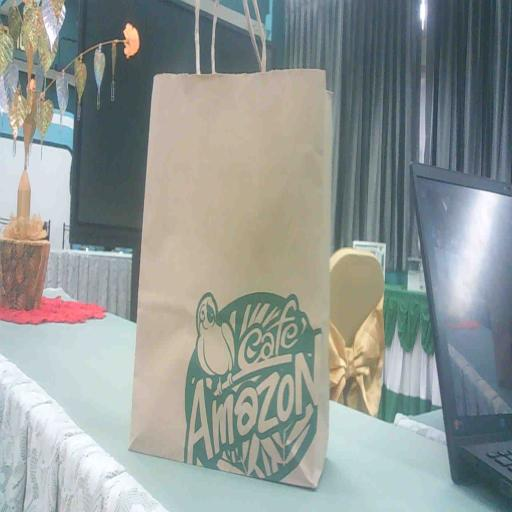bag: (131, 57, 335, 485)
